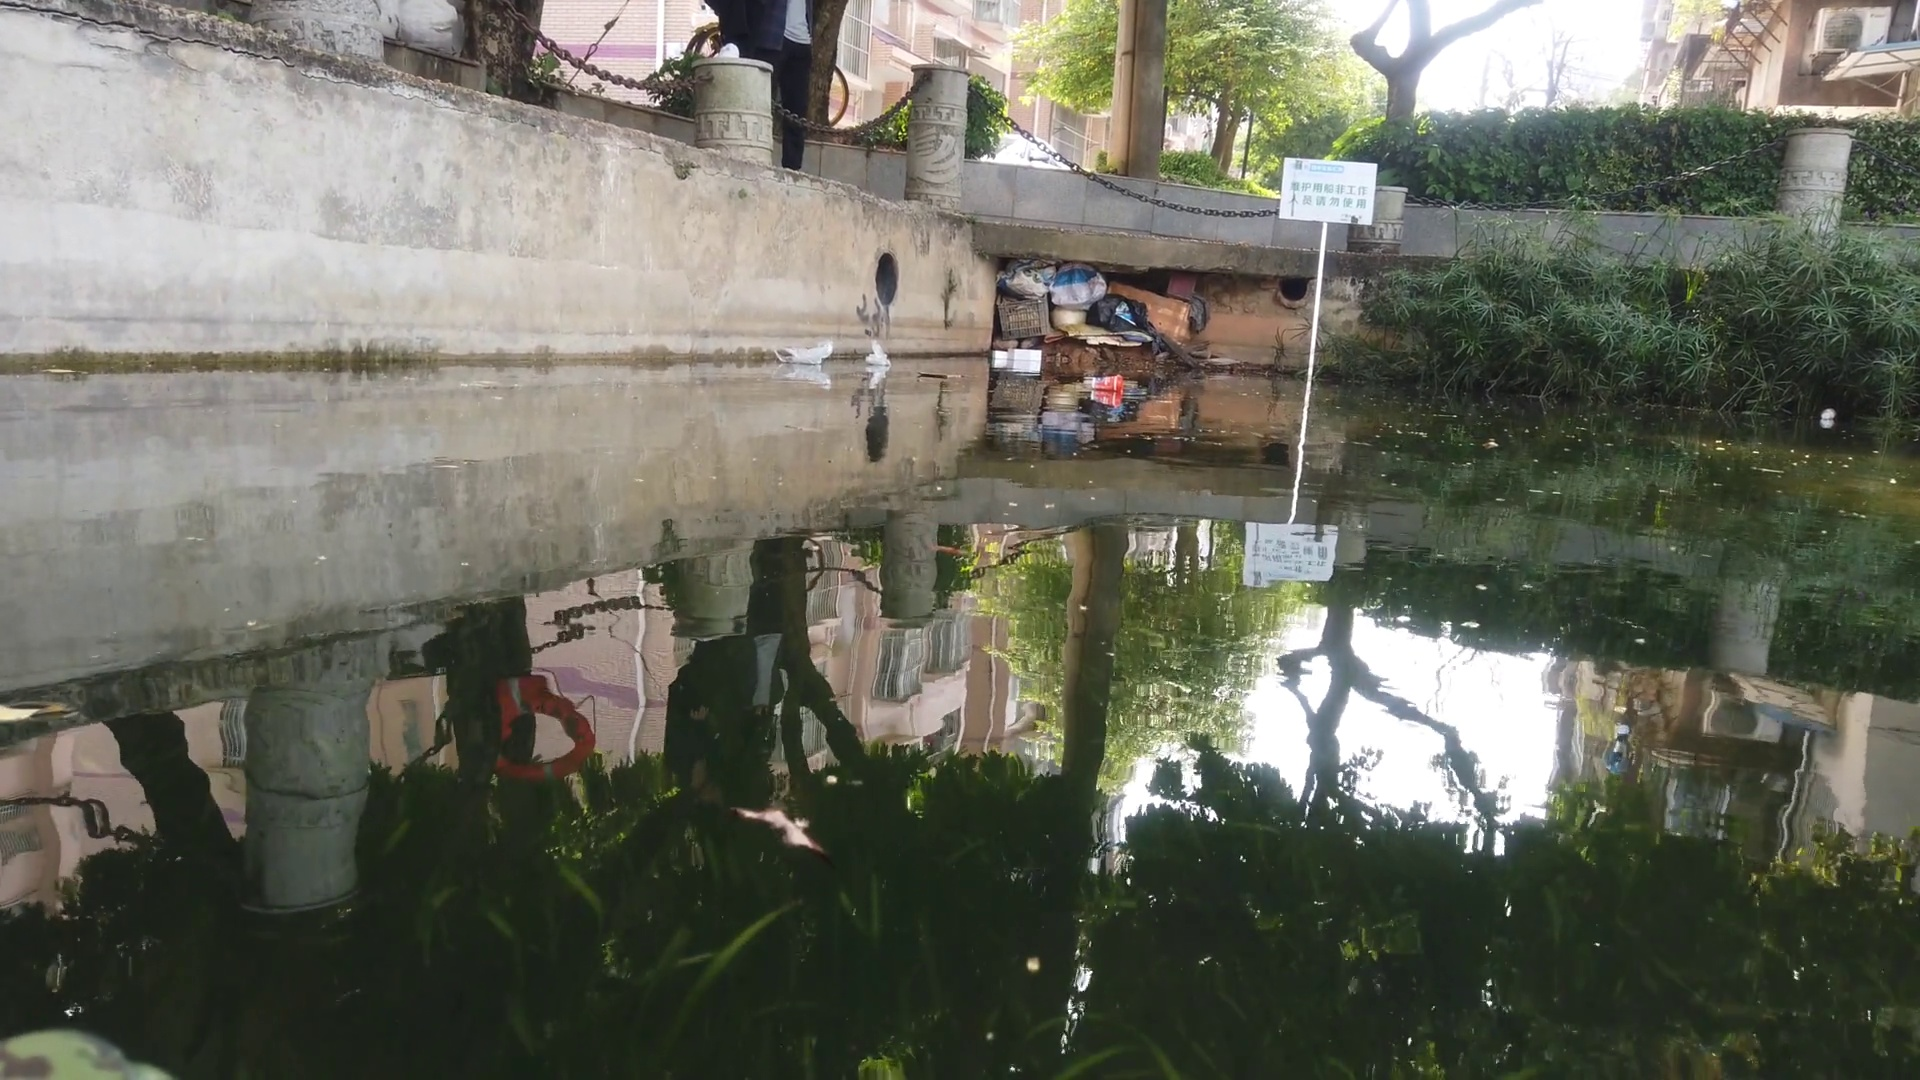bottle: (1091, 375, 1129, 393), (1818, 406, 1838, 419)
carton: (1010, 344, 1042, 360), (986, 348, 1009, 357)
paper: (915, 367, 969, 378)
plastic: (771, 334, 844, 364), (860, 339, 897, 365)
